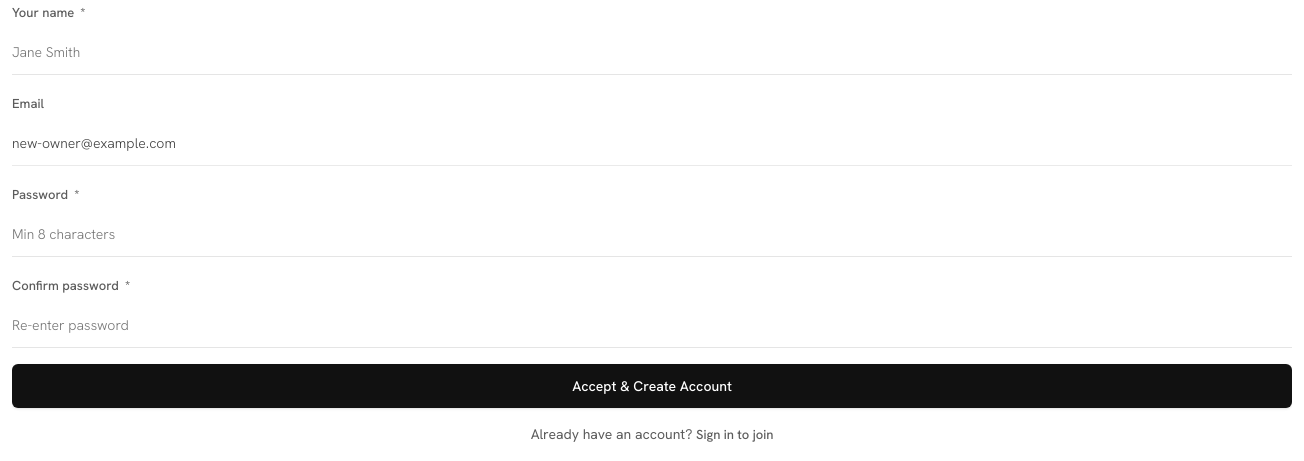
Scenario: AcceptInviteForm native auth notification › recovers after invitation acceptance when sign-in returns an error for a provider
Type "Alex Owner" into the field with id "accept-name". click: (652, 52)
box: [12,30,1292,75]
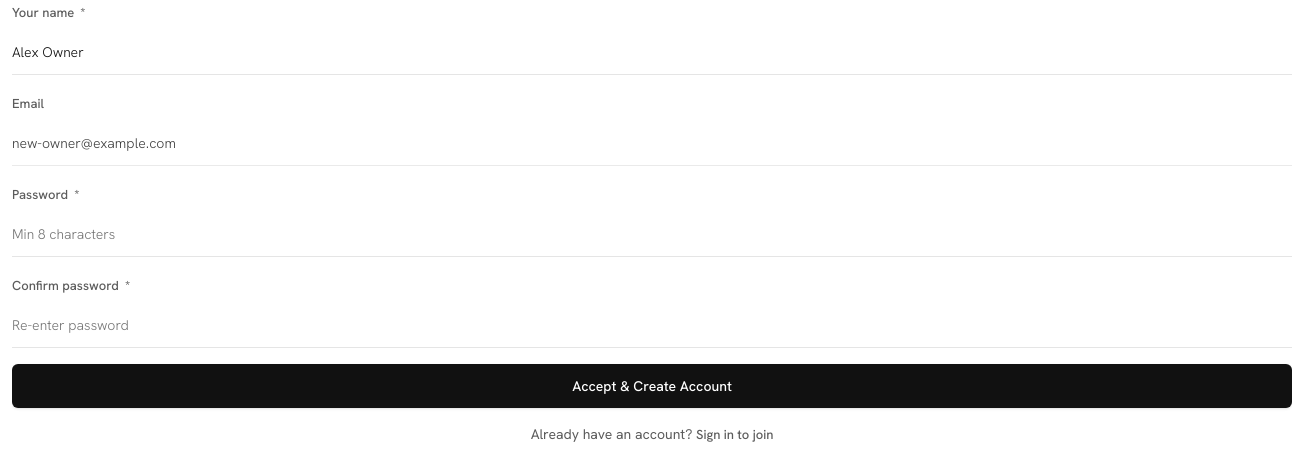
Type "secure-password" into the password field with id "accept-password". click: (652, 234)
box: [12,212,1292,257]
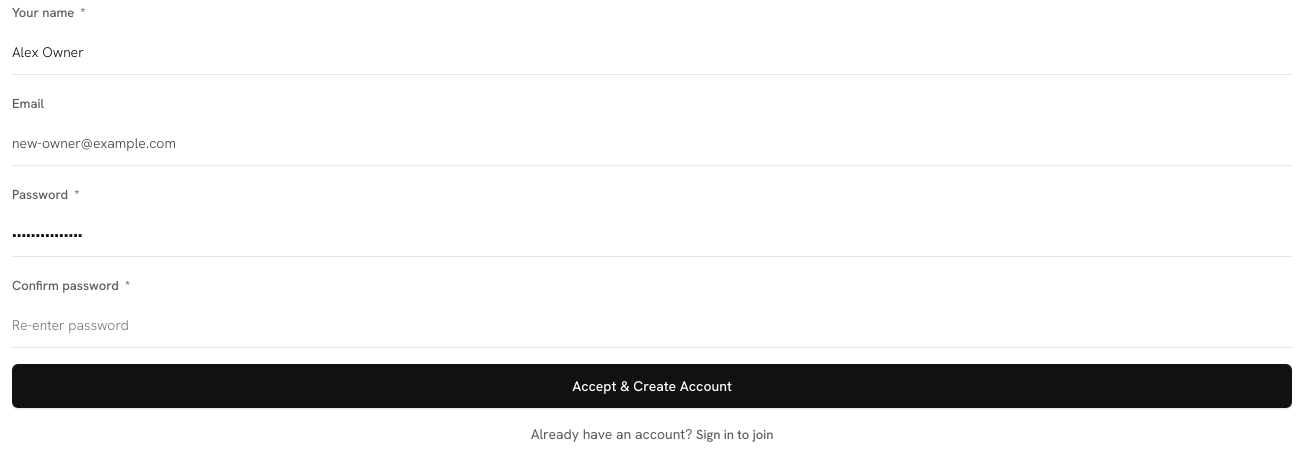
Type "secure-password" into the password field with id "accept-confirm-password". click: (652, 326)
box: [12,303,1292,348]
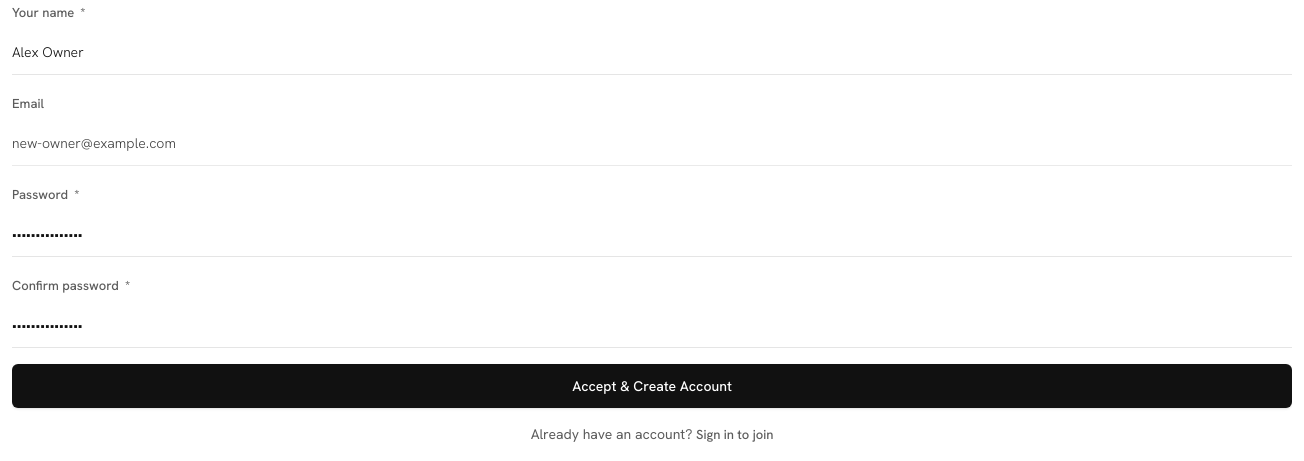
Submit the form
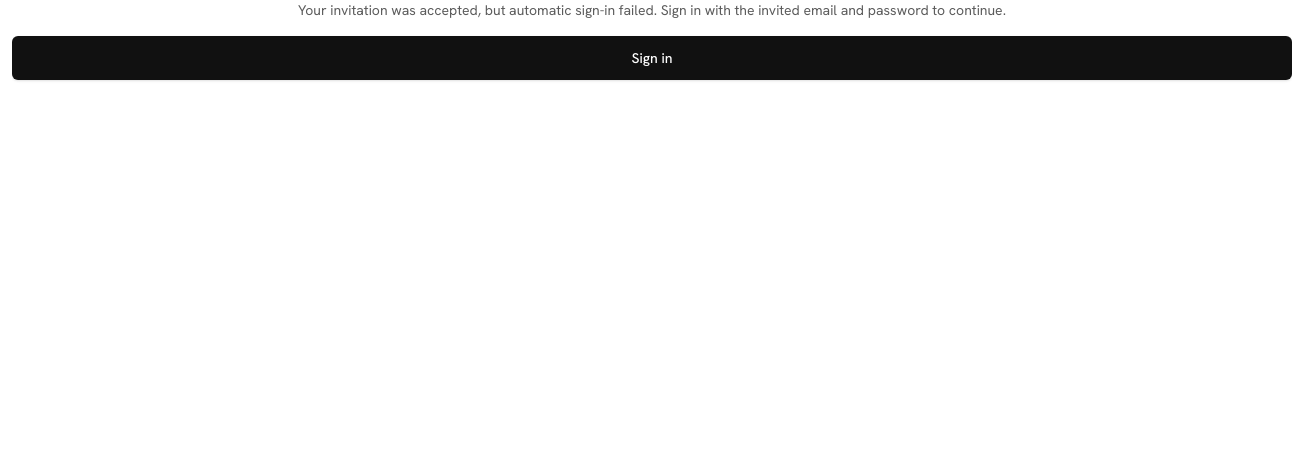
Result: the text "Your invitation was accepted, but automatic sign-in failed. Sign in with the invited email and password to continue." is shown at [298,1,1006,19]
Result: the form is gone
